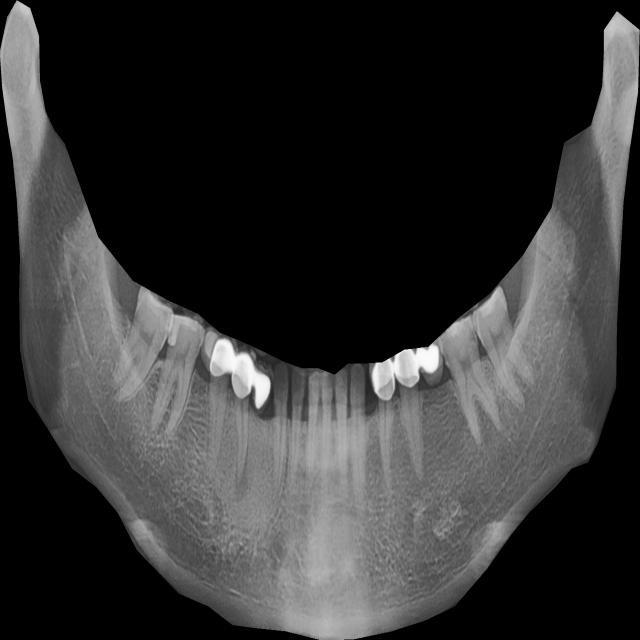mandibula: (0, 0, 640, 640)
